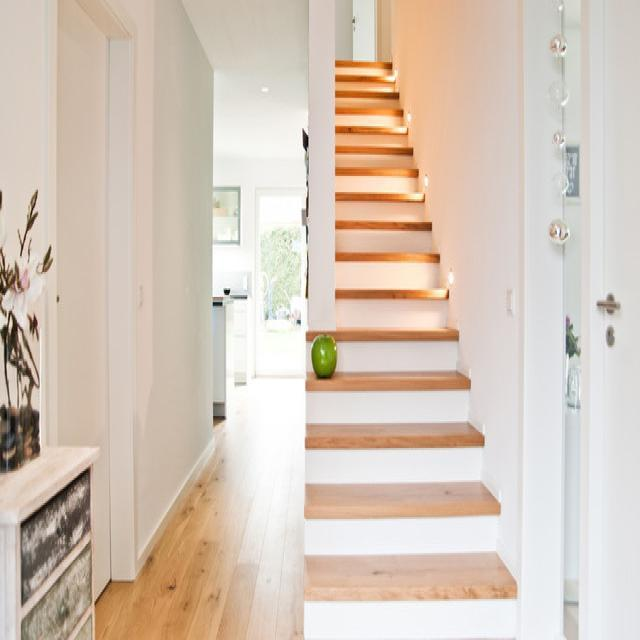stairs: (303, 57, 517, 633)
